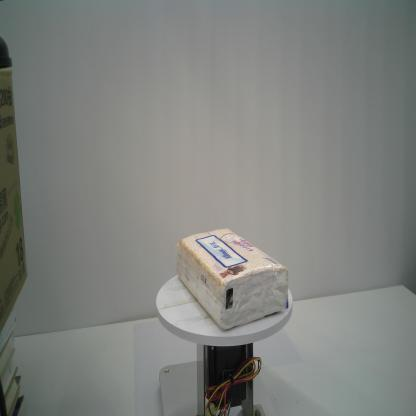Tissue: (175, 225, 289, 331)
